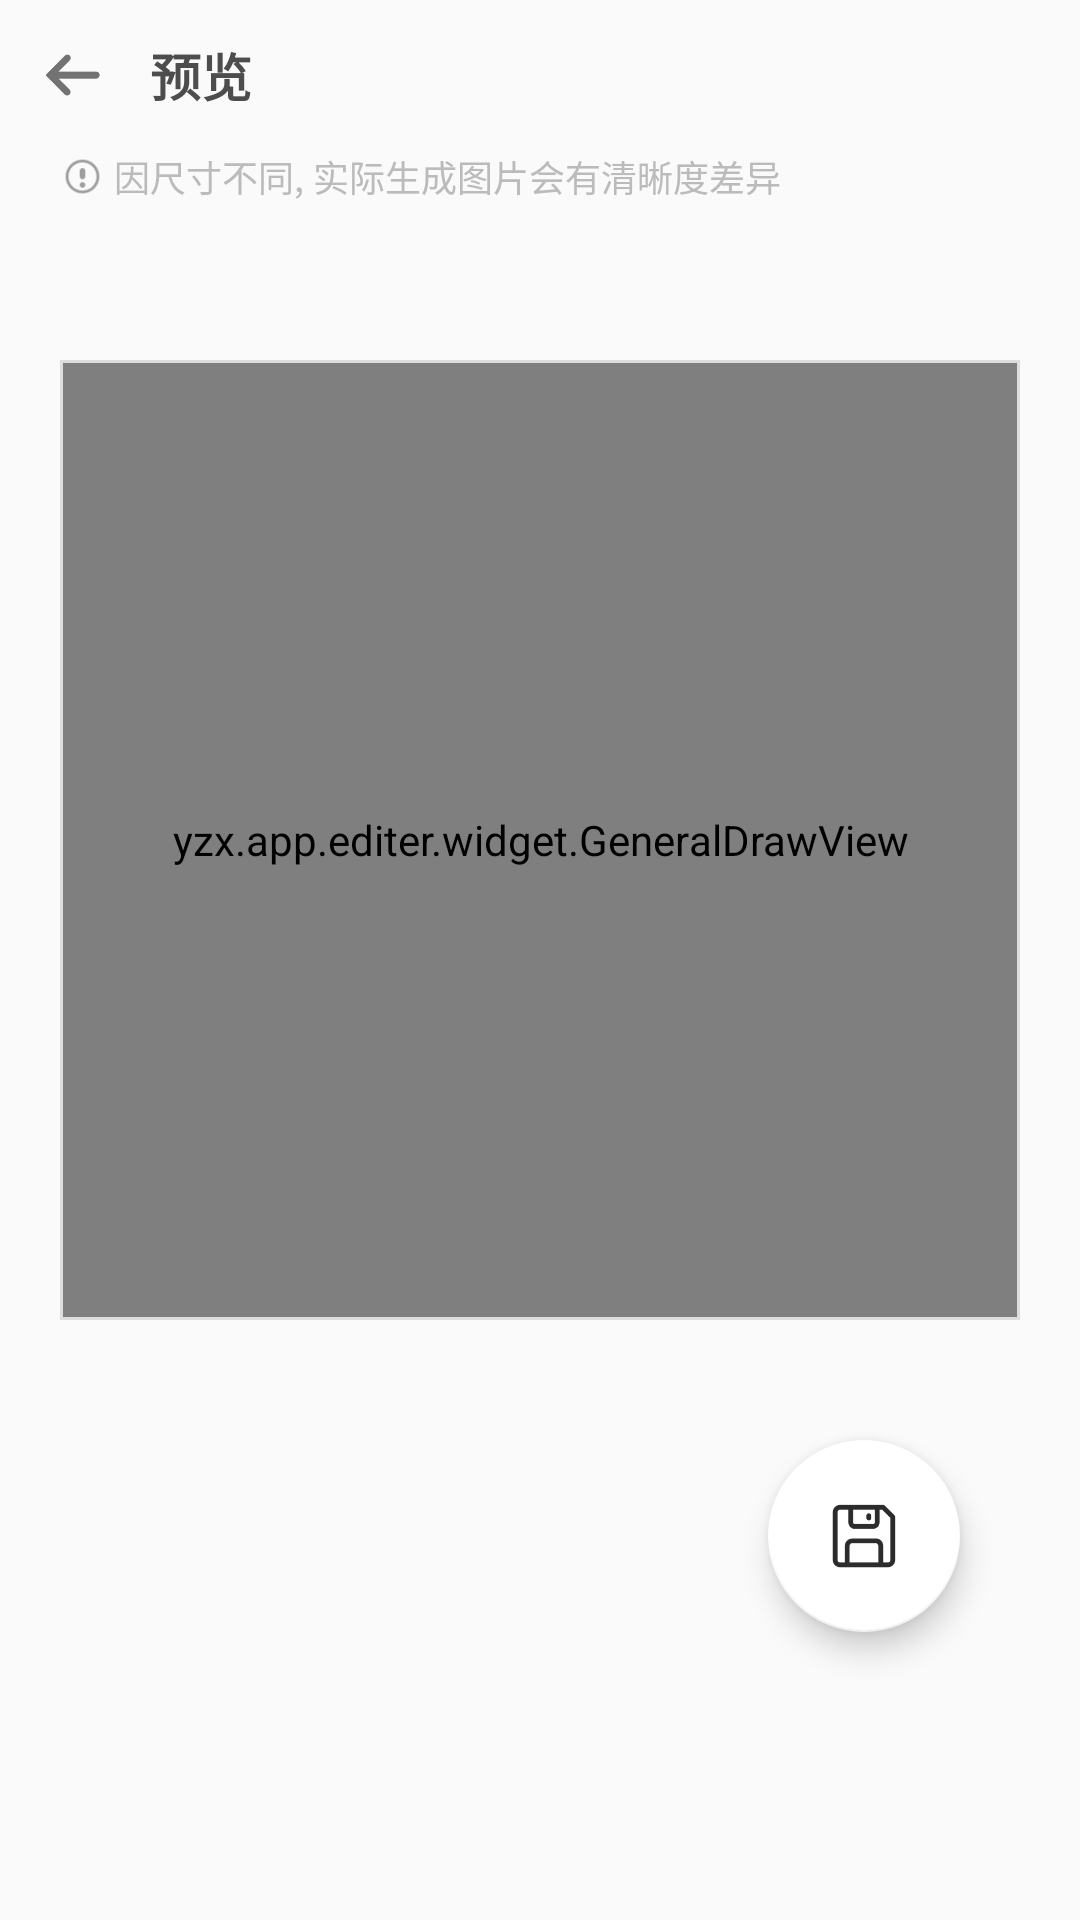

Icon click points for this 1080px x 1920px phone screenshot, format [x,y]:
arrow back: [73,75]
circle notice: [82,176]
